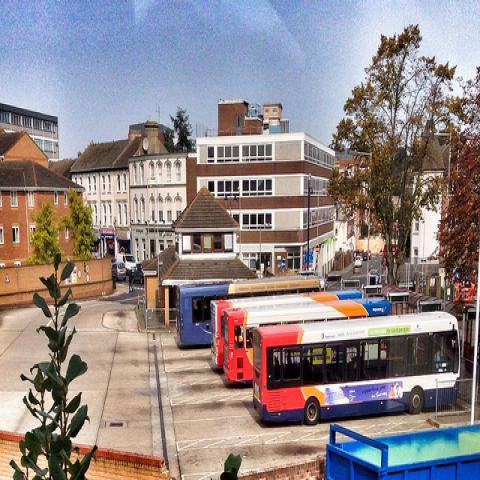bus: (252, 309, 462, 425), (223, 299, 388, 381), (210, 289, 363, 368), (176, 272, 327, 345)
car: (112, 262, 126, 283), (132, 270, 144, 285), (370, 269, 380, 286), (355, 256, 363, 266), (363, 251, 367, 261), (369, 250, 372, 260)
truck: (325, 424, 479, 474), (116, 252, 138, 282)
